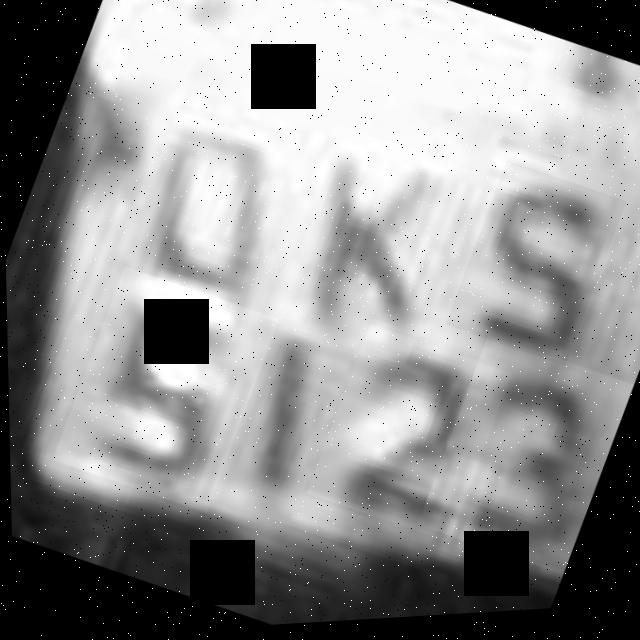1: (201, 306, 380, 524)
2: (301, 322, 512, 555)
3: (411, 334, 635, 588)
5: (46, 260, 280, 522)
K: (257, 121, 479, 378)
S: (441, 161, 627, 378)
